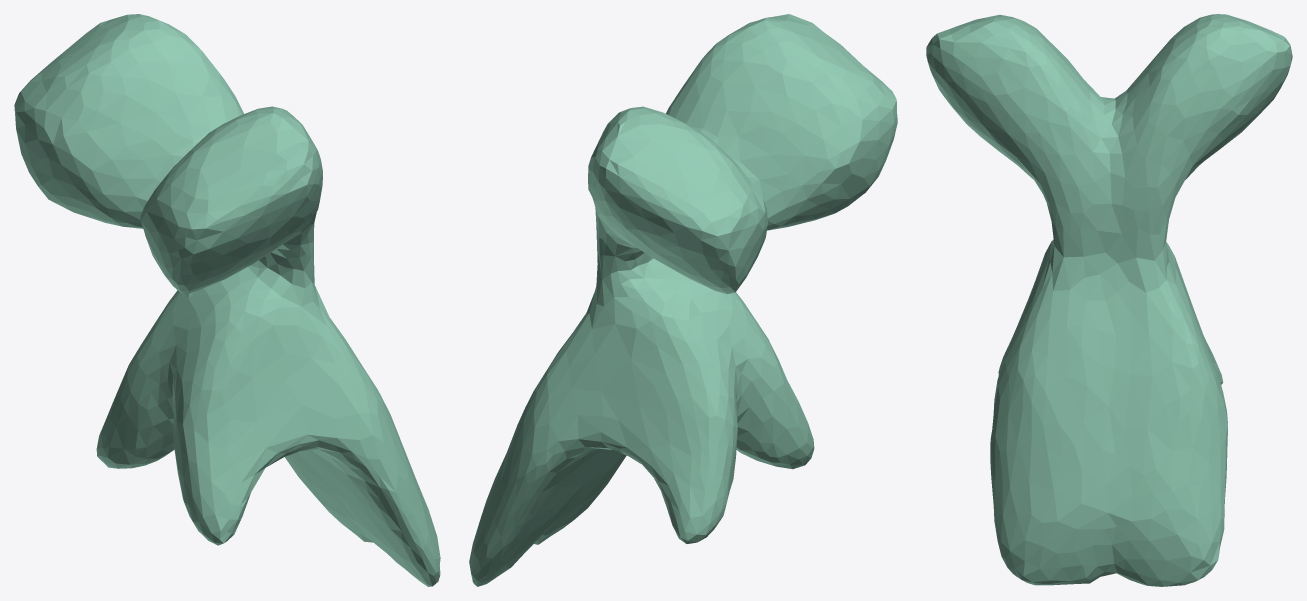
3 views of the same model, side by side, from view 1: azimuth 30°, elevation 25°; view 2: azimuth 150°, elevation 25°; view 3: azimuth 270°, elevation 25° (orthographic). The views are drawn at different scales.
Visible parts, largest first — view 1: 589.obj; view 2: 589.obj; view 3: 589.obj.
Part boxes in pixels (x1,y1,x2,y2): 589.obj: [14, 14, 440, 586]; 589.obj: [469, 14, 897, 586]; 589.obj: [926, 14, 1292, 586].
Size of the model in its own units: 1544 by 2599 by 1778.
